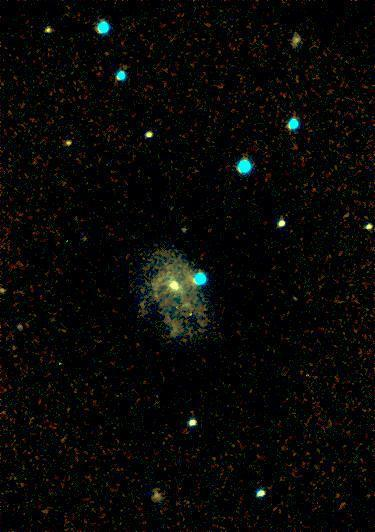star: (68, 224, 98, 254)
